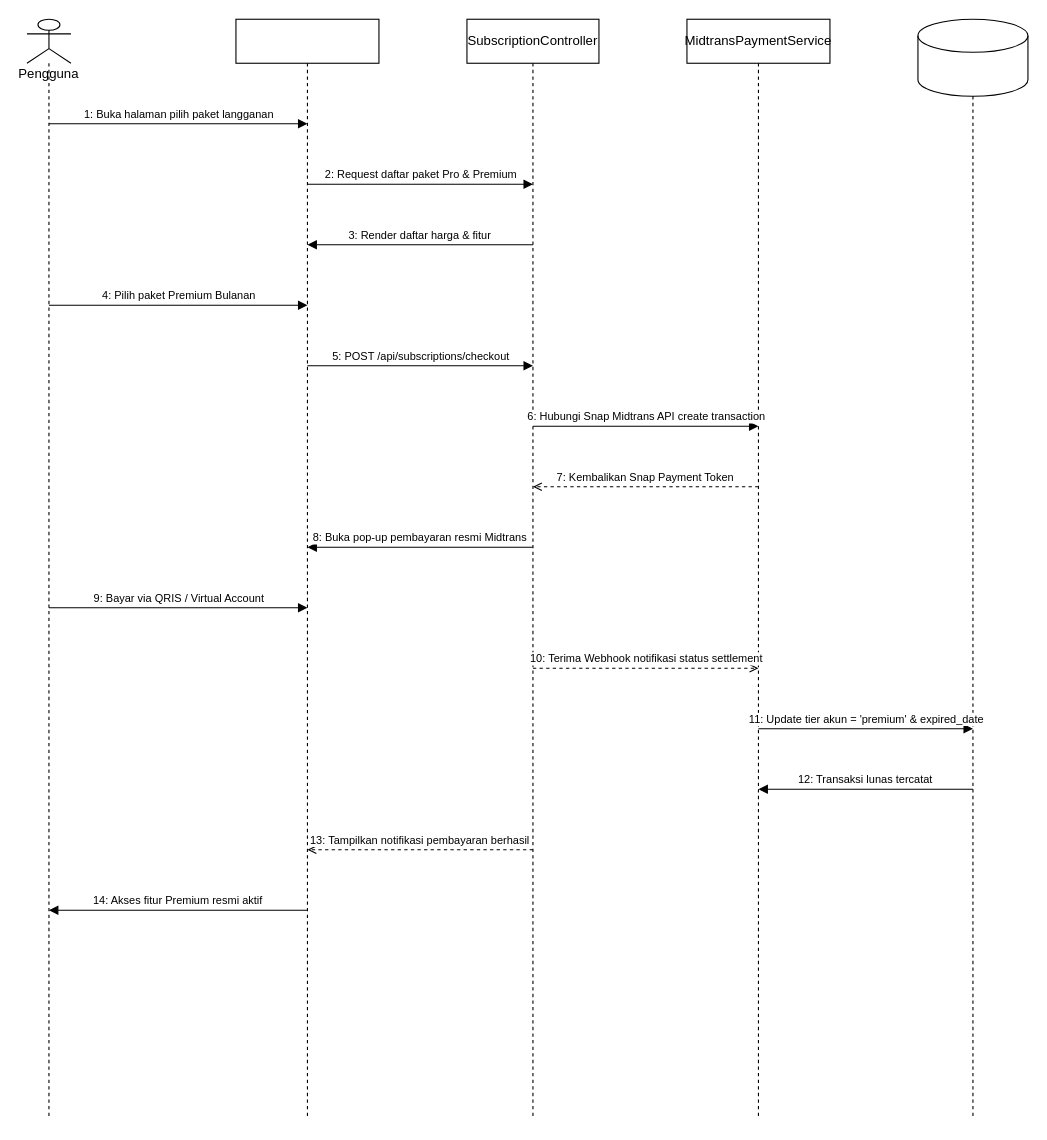
This 1047x1140 diagram has some shape labels left out. The centre of each missing label's shape, as x and y in pixels:
<<Database>> BillingDB: (x=972, y=57)
Tampilan Billing & Paket: (x=307, y=568)
